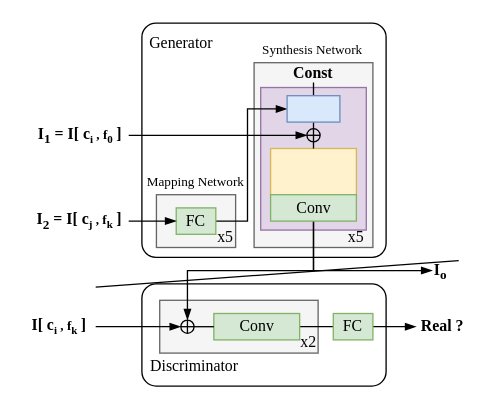
The diagram is 491 pixels wide and 409 high, and some of its shapes have lost their labels. The centre of each missing label's shape, as x and y in pixels:
(Up/Down) Sample: the point at 312,171
AdaIN: the point at 313,108
